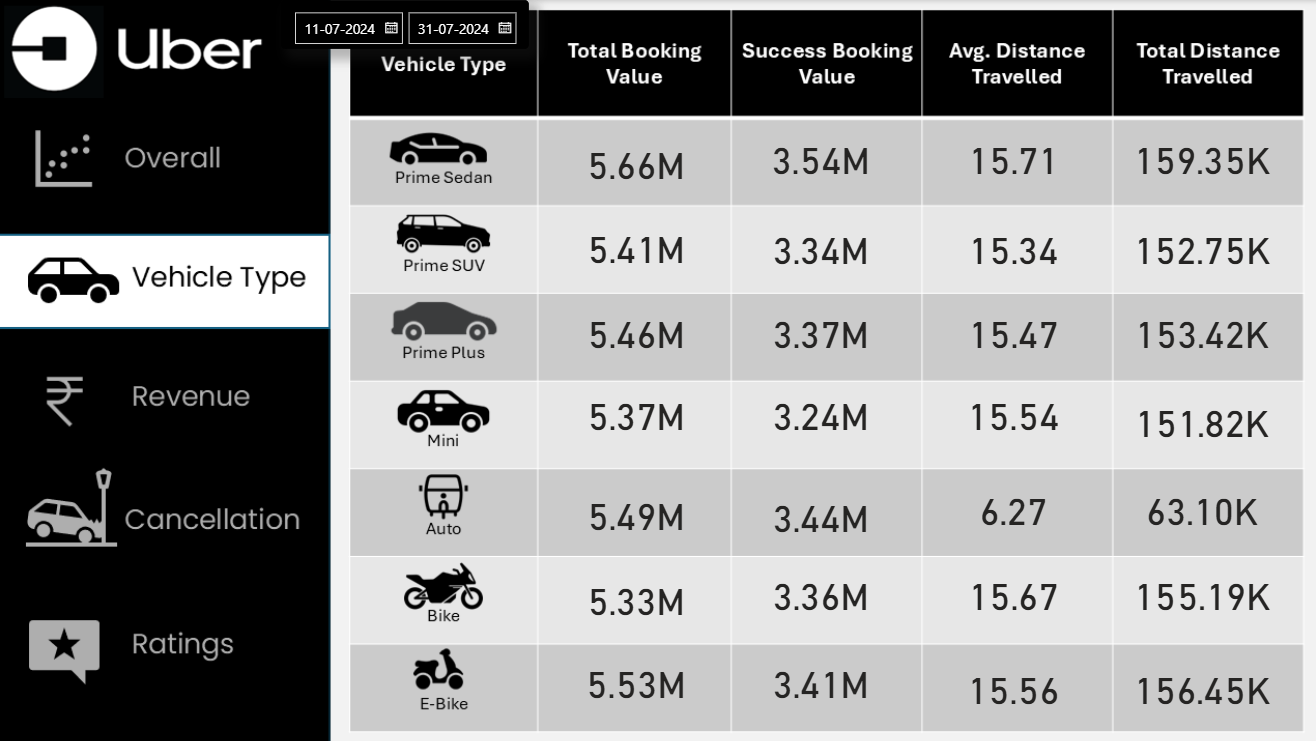

What the dashboard file says about the page in this screenshot:
{"tool":"powerbi","page":{"name":"Vehicle Type","canvas":[1280,720],"ordinal":1},"visuals":[{"type":"actionButton","box":[0,335.4,322.1,90.5],"z":0},{"type":"actionButton","box":[0,446.4,322.1,90.5],"z":1000},{"type":"actionButton","box":[0,573.1,322.1,90.5],"z":2000},{"type":"actionButton","box":[0,107.4,322.1,90.5],"z":3000},{"type":"card","fields":{"Values":["Sum(July.Booking_Value)"]},"box":[533.2,117,168.9,80.8],"z":4000},{"type":"card","fields":{"Values":["Sum(July.Booking_Value)"]},"box":[533.2,197.8,169.1,80.3],"z":4001},{"type":"card","fields":{"Values":["Sum(July.Booking_Value)"]},"box":[533.2,279.5,169.1,80.3],"z":4002},{"type":"card","fields":{"Values":["Sum(July.Booking_Value)"]},"box":[533.2,359.8,169.1,80.3],"z":4003},{"type":"card","fields":{"Values":["Sum(July.Booking_Value)"]},"box":[533.2,455.8,169.1,80.3],"z":4004},{"type":"card","fields":{"Values":["Sum(July.Booking_Value)"]},"box":[533.2,537.5,169.1,80.3],"z":4005},{"type":"card","fields":{"Values":["Sum(July.Booking_Value)"]},"box":[533.2,617.8,169.1,80.3],"z":4006},{"type":"card","fields":{"Values":["Sum(July.Booking_Value)"]},"box":[712.4,111.8,169.1,80.3],"z":4007},{"type":"card","fields":{"Values":["Sum(July.Booking_Value)"]},"box":[712.4,457.2,169.1,80.3],"z":4008},{"type":"card","fields":{"Values":["Sum(July.Booking_Value)"]},"box":[712.4,359.8,169.1,80.3],"z":4009},{"type":"card","fields":{"Values":["Sum(July.Booking_Value)"]},"box":[712.4,279.5,169.1,80.3],"z":4010},{"type":"card","fields":{"Values":["Sum(July.Booking_Value)"]},"box":[712.4,199.2,169.1,80.3],"z":4011},{"type":"card","fields":{"Values":["Sum(July.Booking_Value)"]},"box":[712.4,533.2,169.1,80.3],"z":4012},{"type":"card","fields":{"Values":["Sum(July.Booking_Value)"]},"box":[712.4,617.8,169.1,80.3],"z":4013},{"type":"card","fields":{"Values":["Avg(July.Ride_Distance)"]},"box":[897.3,111.8,169.1,80.3],"z":4014},{"type":"card","fields":{"Values":["Avg(July.Ride_Distance)"]},"box":[897.3,199.2,169.1,80.3],"z":4015},{"type":"card","fields":{"Values":["Avg(July.Ride_Distance)"]},"box":[897.3,279.5,169.1,80.3],"z":4016},{"type":"card","fields":{"Values":["Avg(July.Ride_Distance)"]},"box":[897.3,359.8,169.1,80.3],"z":4017},{"type":"card","fields":{"Values":["Avg(July.Ride_Distance)"]},"box":[897.3,451.5,169.1,80.3],"z":4018},{"type":"card","fields":{"Values":["Avg(July.Ride_Distance)"]},"box":[897.3,533.2,169.1,80.3],"z":4019},{"type":"card","fields":{"Values":["Avg(July.Ride_Distance)"]},"box":[897.3,623.5,169.1,80.3],"z":4020},{"type":"card","fields":{"Values":["Sum(July.Ride_Distance)"]},"box":[1079.3,111.8,169.1,80.3],"z":4021},{"type":"card","fields":{"Values":["Sum(July.Ride_Distance)"]},"box":[1079.3,199.2,169.1,80.3],"z":4022},{"type":"card","fields":{"Values":["Sum(July.Ride_Distance)"]},"box":[1079.3,279.5,169.1,80.3],"z":4023},{"type":"card","fields":{"Values":["Sum(July.Ride_Distance)"]},"box":[1079.3,365.5,169.1,80.3],"z":4024},{"type":"card","fields":{"Values":["Sum(July.Ride_Distance)"]},"box":[1079.3,451.5,169.1,80.3],"z":4025},{"type":"card","fields":{"Values":["Sum(July.Ride_Distance)"]},"box":[1079.3,533.2,169.1,80.3],"z":4026},{"type":"card","fields":{"Values":["Sum(July.Ride_Distance)"]},"box":[1079.3,623.5,169.1,80.3],"z":4027},{"type":"slicer","title":"Date","fields":{"Values":["July.Date"]},"box":[275.2,0,239.4,47.3],"z":4028}]}

Visuals, with their boxes on the page's 1280x720 design canvas (x1, y1, x2, y2). These are canvas units, not pixel positions in the 1316x741 screenshot, which may show the page scaled, cropped or inside an application window:
actionButton: <region>0, 335, 322, 426</region>
actionButton: <region>0, 446, 322, 537</region>
actionButton: <region>0, 573, 322, 664</region>
actionButton: <region>0, 107, 322, 198</region>
card - Sum(July.Booking_Value): <region>533, 117, 702, 198</region>
card - Sum(July.Booking_Value): <region>533, 198, 702, 278</region>
card - Sum(July.Booking_Value): <region>533, 280, 702, 360</region>
card - Sum(July.Booking_Value): <region>533, 360, 702, 440</region>
card - Sum(July.Booking_Value): <region>533, 456, 702, 536</region>
card - Sum(July.Booking_Value): <region>533, 538, 702, 618</region>
card - Sum(July.Booking_Value): <region>533, 618, 702, 698</region>
card - Sum(July.Booking_Value): <region>712, 112, 882, 192</region>
card - Sum(July.Booking_Value): <region>712, 457, 882, 538</region>
card - Sum(July.Booking_Value): <region>712, 360, 882, 440</region>
card - Sum(July.Booking_Value): <region>712, 280, 882, 360</region>
card - Sum(July.Booking_Value): <region>712, 199, 882, 280</region>
card - Sum(July.Booking_Value): <region>712, 533, 882, 614</region>
card - Sum(July.Booking_Value): <region>712, 618, 882, 698</region>
card - Avg(July.Ride_Distance): <region>897, 112, 1066, 192</region>
card - Avg(July.Ride_Distance): <region>897, 199, 1066, 280</region>
card - Avg(July.Ride_Distance): <region>897, 280, 1066, 360</region>
card - Avg(July.Ride_Distance): <region>897, 360, 1066, 440</region>
card - Avg(July.Ride_Distance): <region>897, 452, 1066, 532</region>
card - Avg(July.Ride_Distance): <region>897, 533, 1066, 614</region>
card - Avg(July.Ride_Distance): <region>897, 624, 1066, 704</region>
card - Sum(July.Ride_Distance): <region>1079, 112, 1248, 192</region>
card - Sum(July.Ride_Distance): <region>1079, 199, 1248, 280</region>
card - Sum(July.Ride_Distance): <region>1079, 280, 1248, 360</region>
card - Sum(July.Ride_Distance): <region>1079, 366, 1248, 446</region>
card - Sum(July.Ride_Distance): <region>1079, 452, 1248, 532</region>
card - Sum(July.Ride_Distance): <region>1079, 533, 1248, 614</region>
card - Sum(July.Ride_Distance): <region>1079, 624, 1248, 704</region>
"Date" slicer: <region>275, 0, 515, 47</region>
